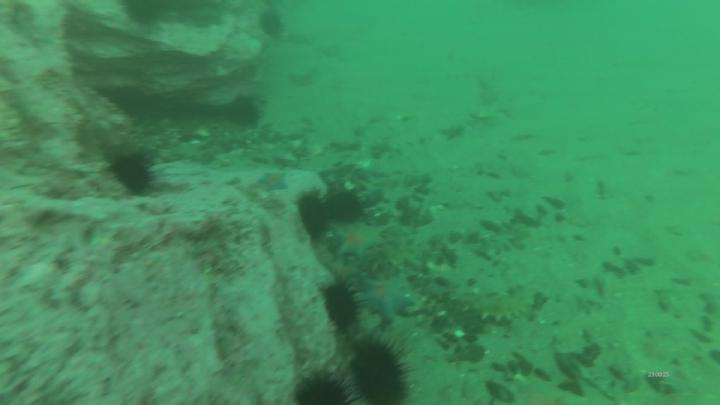echinus: (352, 349, 406, 402), (107, 159, 153, 191), (322, 287, 355, 326), (297, 196, 329, 236), (299, 379, 348, 405), (325, 192, 364, 222), (227, 98, 260, 127), (261, 10, 285, 40)
holothurian: (455, 289, 535, 323)
starfish: (361, 272, 417, 322), (335, 230, 381, 256), (259, 173, 288, 193)
